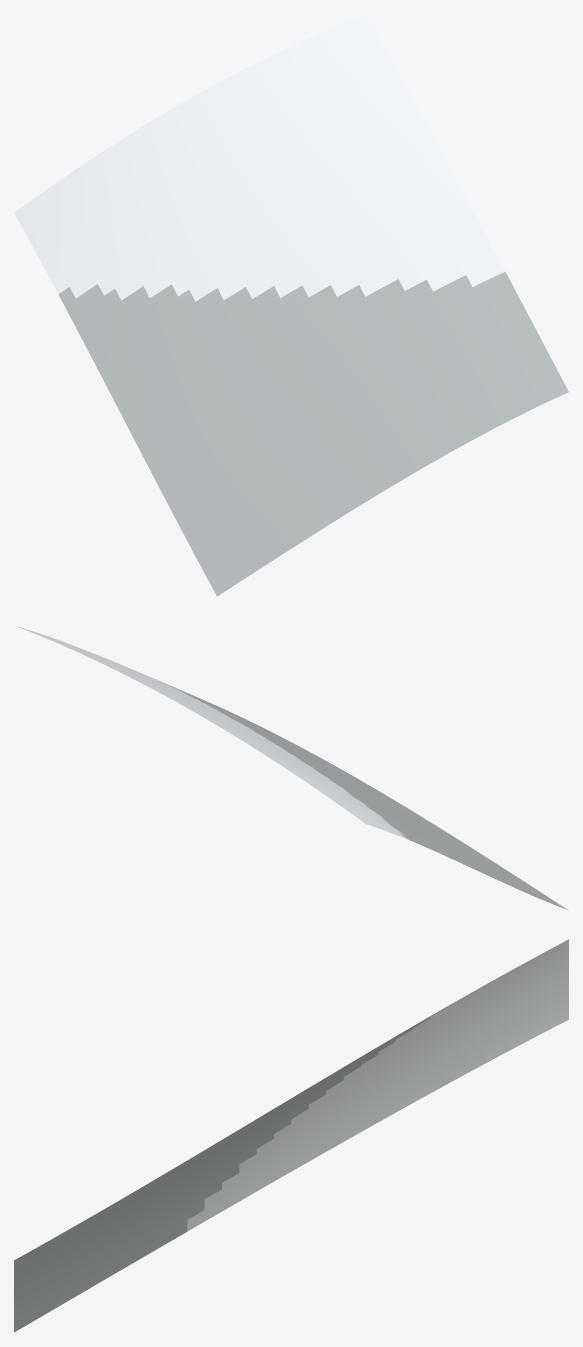
Rendered from alpine-7-8.glb.
3 renders of one model, top to bottom at view 1: azimuth 30°, elevation 25°; view 2: azimuth 150°, elevation 25°; view 3: azimuth 270°, elevation 25°, orthographic. The views are drawn at different scales.
Visible parts, largest first — view 1: alpine-7-8; view 2: alpine-7-8; view 3: alpine-7-8.
Part boxes in pixels (box(x1,y1,x2,y2)): alpine-7-8: box(14, 14, 568, 596); alpine-7-8: box(16, 626, 568, 910); alpine-7-8: box(14, 939, 568, 1332).
Bounding box in the file's own units: 256 × 242 × 256.
2 materials, 2 textured.
